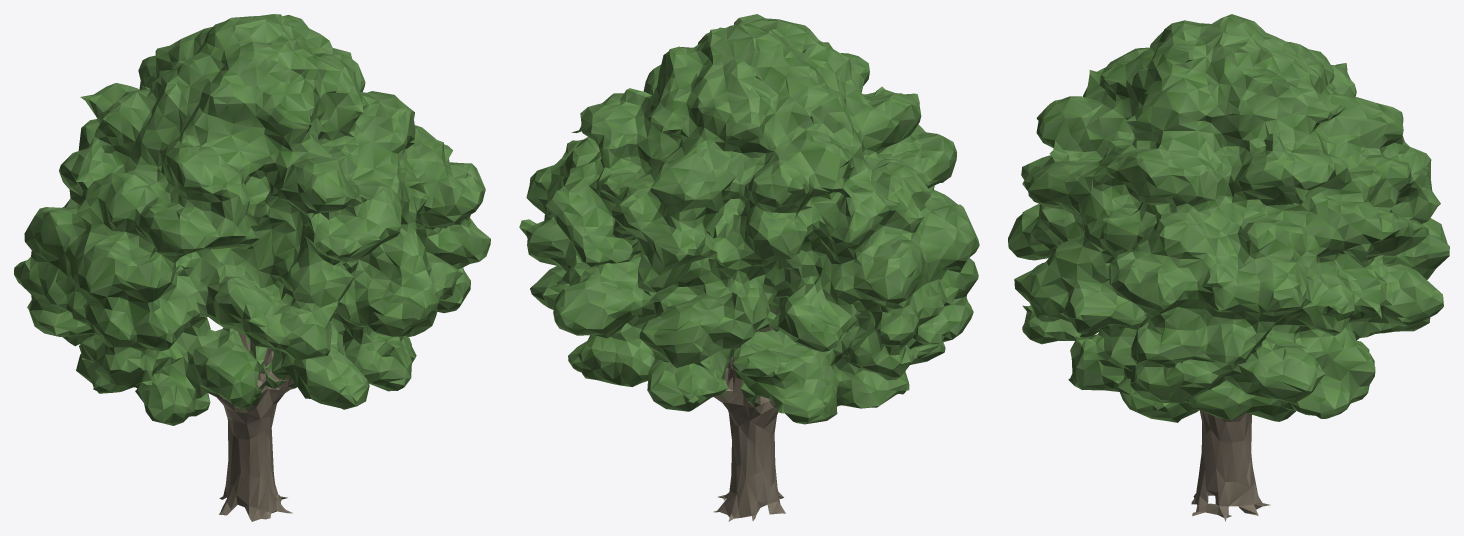
The model's file is elm_tree.glb.
3 views of the same model, side by side, from view 1: azimuth 30°, elevation 25°; view 2: azimuth 150°, elevation 25°; view 3: azimuth 270°, elevation 25° (orthographic).
Parts seen in each view (by area): view 1: world; view 2: world; view 3: world.
Part boxes in pixels (bbox=[...]): world: bbox=[14, 14, 490, 521]; world: bbox=[519, 14, 979, 521]; world: bbox=[1008, 14, 1449, 521].
Size of the model in its own units: 4.33 by 5 by 4.17.
